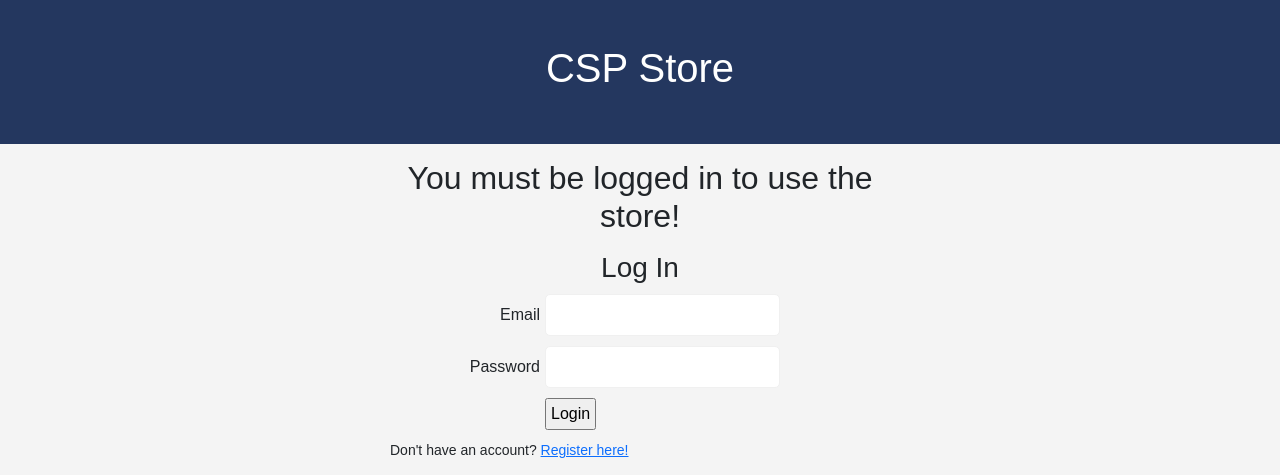
renders register page when register link is clicked
Click the link "Register here!".
click(585, 450)  # box left=541, top=442, right=628, bottom=458
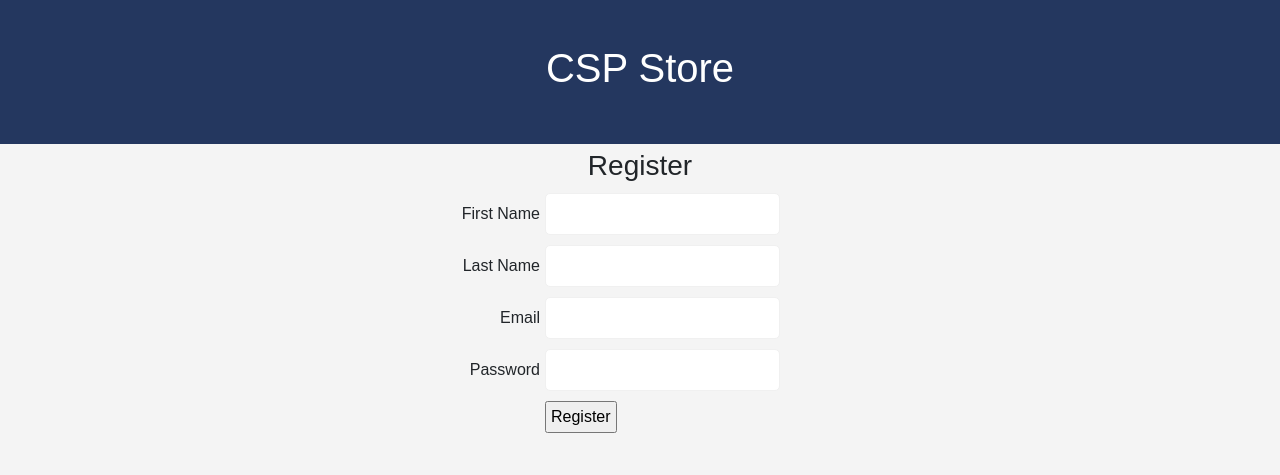
Expected: the heading "CSP Store" is shown, left=546, top=44, right=734, bottom=92
Expected: the button "Register" is shown, left=545, top=401, right=617, bottom=433
